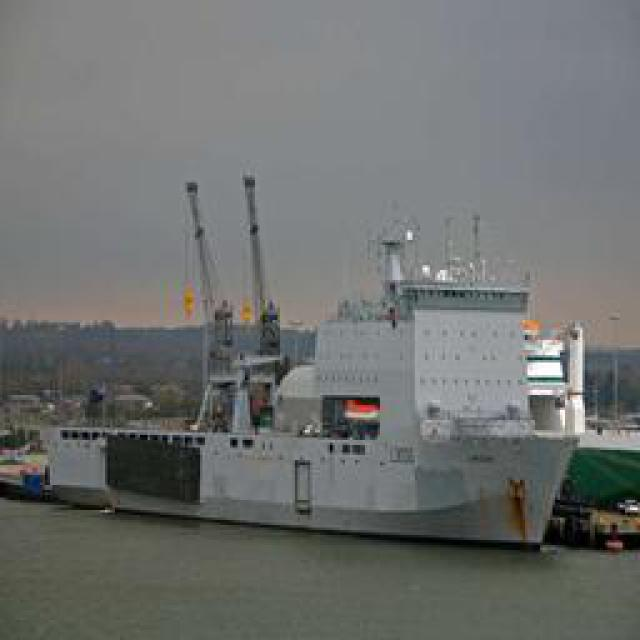Ship: (56, 199, 589, 554)
